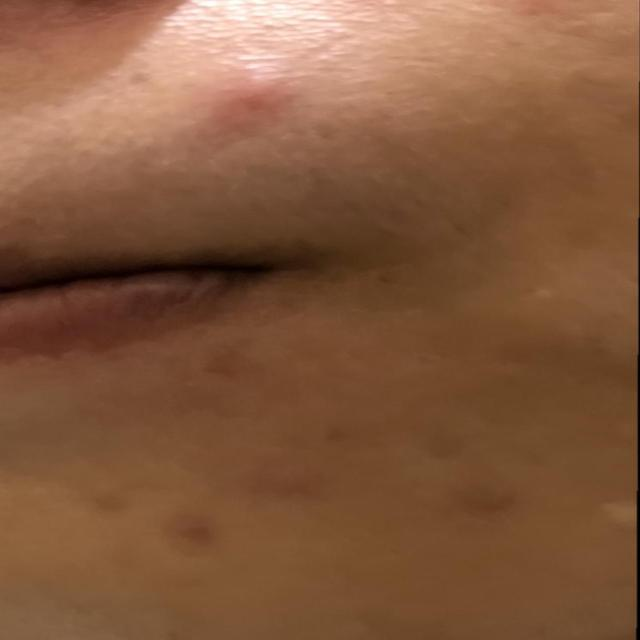papule: (170, 62, 346, 144)
